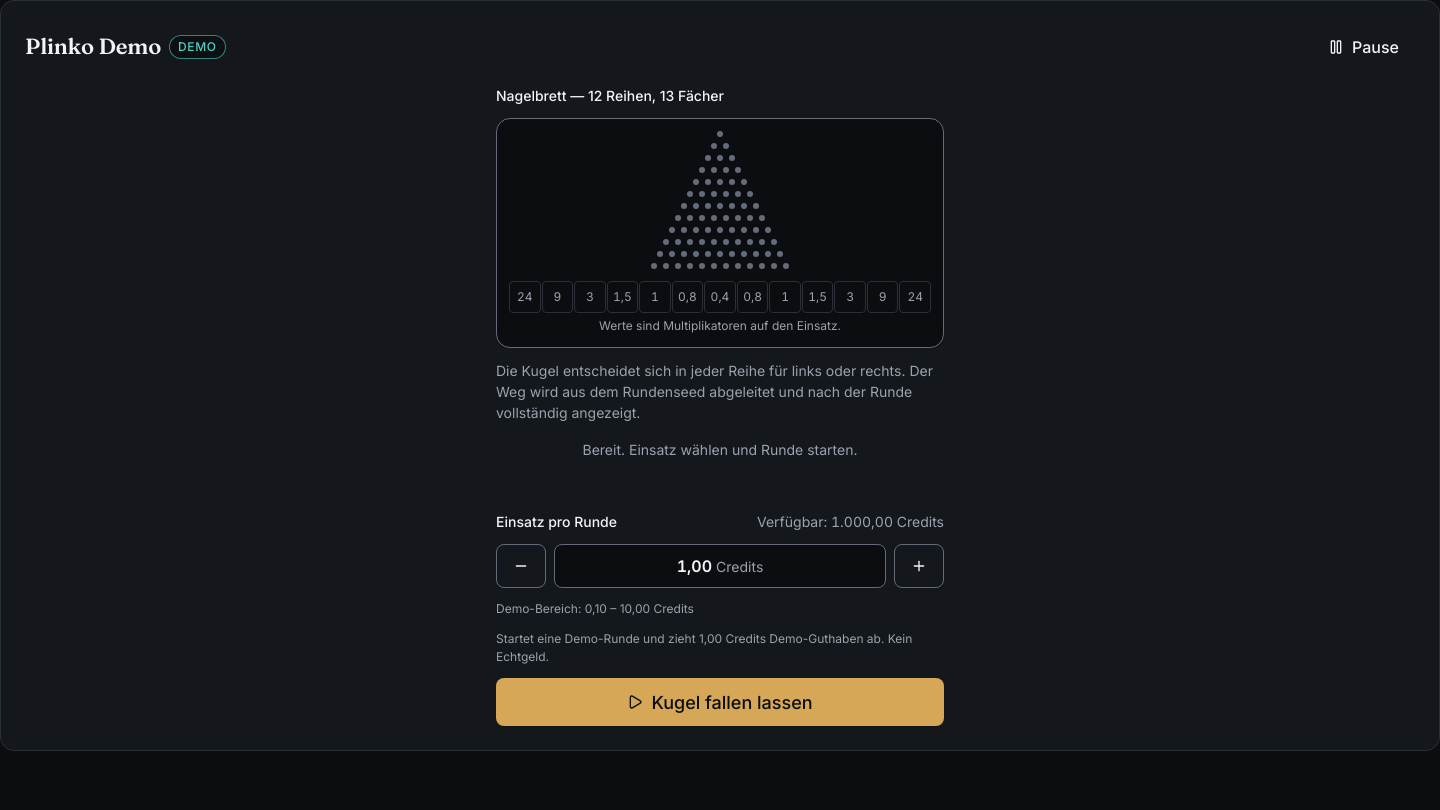
Test: Arcade-Oberflächen › Plinko: eine Runde läuft durch und zeigt Fach und Weg
Click the button "Kugel fallen lassen" at (720, 702), box top-left (496, 678), bottom-right (944, 726)
Wait 1450 ms
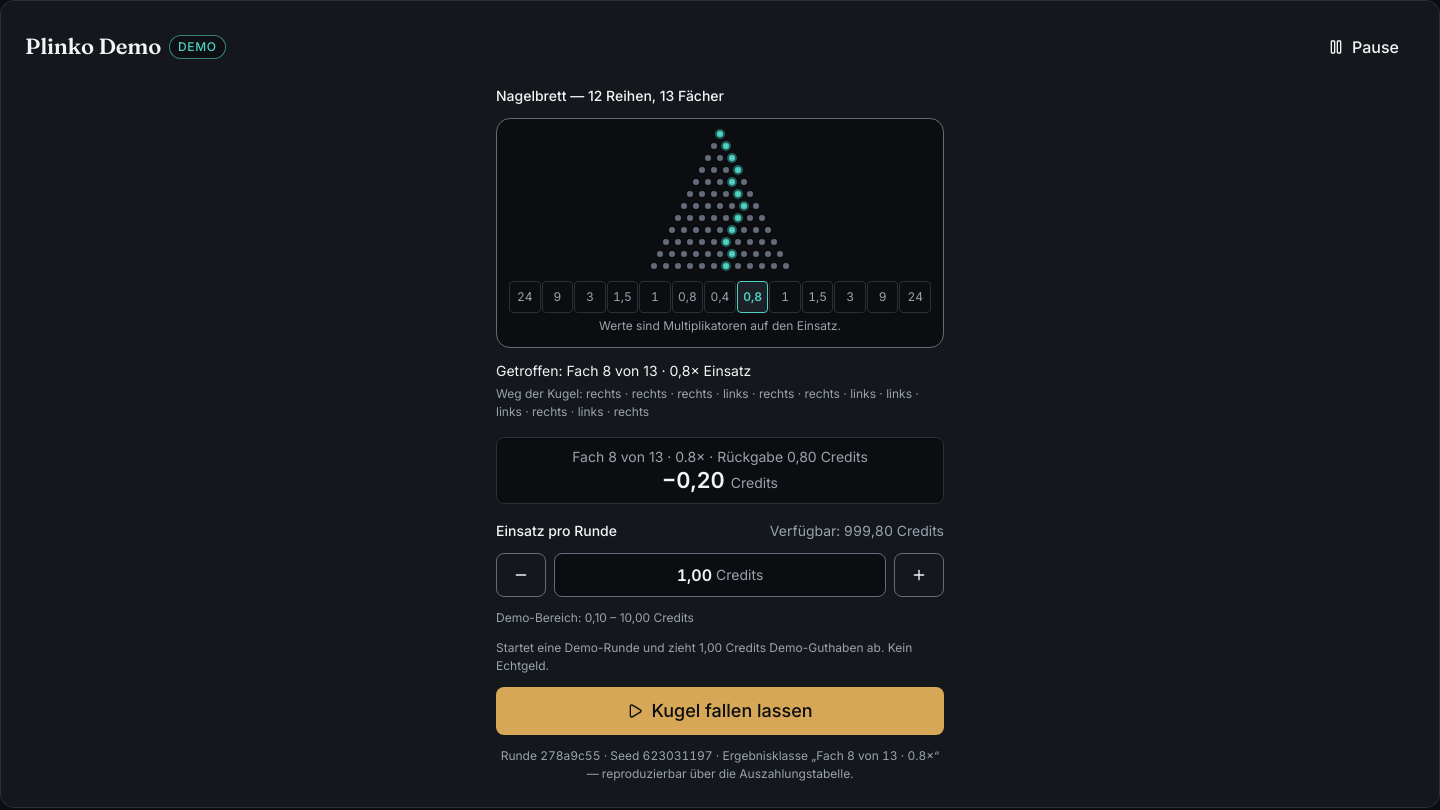
expect the text "Getroffen: Fach 8 von 13 · 0,8× Einsatz" is shown: met, box top-left (496, 362), bottom-right (751, 379)
expect the text "Weg der Kugel:" is shown: met, box top-left (496, 386), bottom-right (586, 401)
